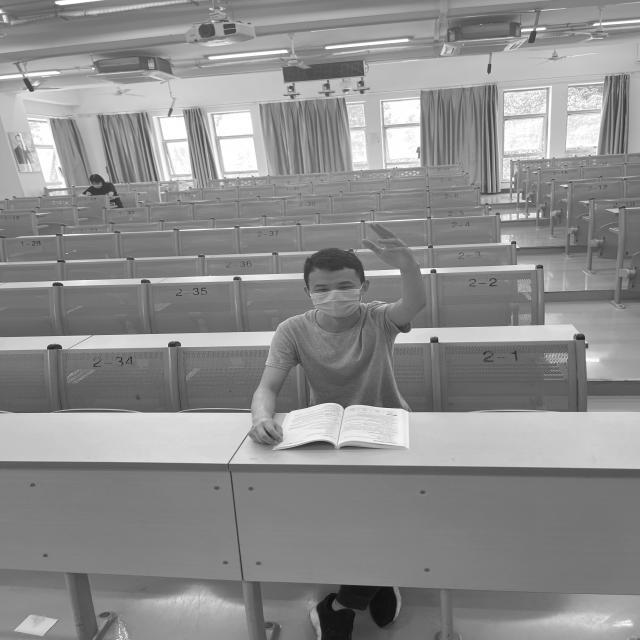study: (250, 224, 425, 443)
